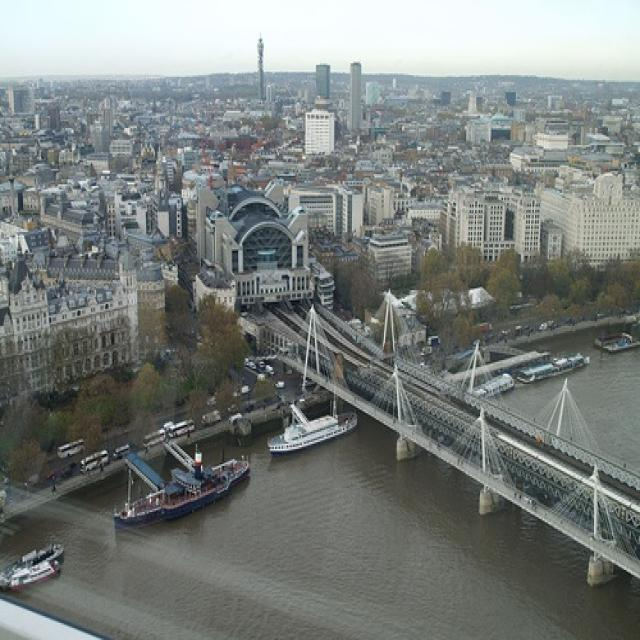boat: (114, 458, 250, 522), (267, 398, 356, 456), (0, 542, 65, 597), (521, 351, 593, 379), (590, 322, 639, 358), (468, 365, 514, 398)
bus: (74, 449, 106, 469), (132, 428, 166, 444), (54, 440, 84, 456), (167, 421, 194, 437)
